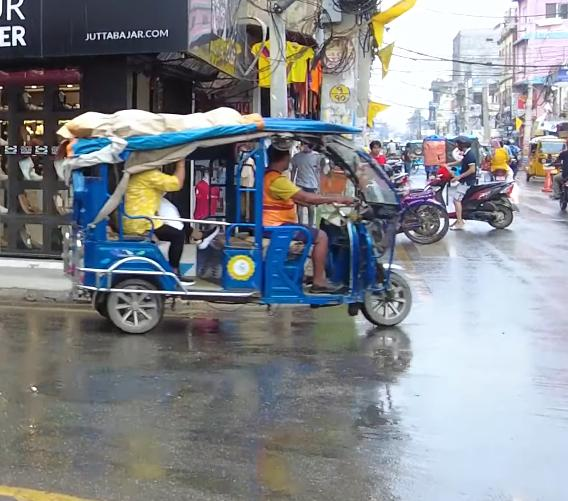e-rickshaw: (63, 103, 420, 343)
scooter: (427, 164, 518, 234)
